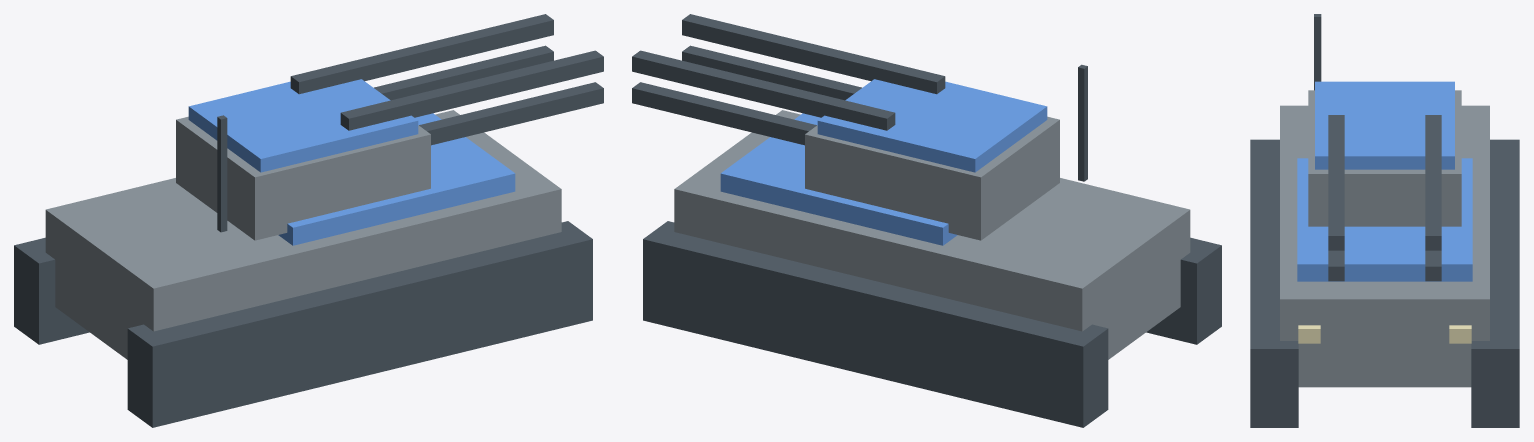
Rendered from luchtafweerwagen.glb.
The picture shows the model from 3 angles, left to right: view 1: azimuth 30°, elevation 25°; view 2: azimuth 150°, elevation 25°; view 3: azimuth 270°, elevation 25°; orthographic projection. The views are drawn at different scales.
Visible parts, largest first — view 1: hull_dark_LOD0, hull_steel_LOD0, barrel_dark_LOD0, turret_steel_LOD0, turret_team_LOD0, hull_team_LOD0; view 2: hull_dark_LOD0, hull_steel_LOD0, barrel_dark_LOD0, turret_steel_LOD0, turret_team_LOD0, hull_team_LOD0; view 3: hull_steel_LOD0, hull_dark_LOD0, turret_team_LOD0, hull_team_LOD0, turret_steel_LOD0, barrel_dark_LOD0, hull_lamp_LOD0.
Part boxes in pixels (x1,y1,x2,y2): hull_dark_LOD0: [14, 115, 592, 427]; hull_steel_LOD0: [45, 110, 561, 359]; barrel_dark_LOD0: [290, 14, 603, 145]; turret_steel_LOD0: [176, 116, 430, 240]; turret_team_LOD0: [188, 79, 418, 172]; hull_team_LOD0: [278, 113, 515, 245]; hull_dark_LOD0: [643, 64, 1221, 427]; hull_steel_LOD0: [674, 110, 1190, 359]; barrel_dark_LOD0: [632, 14, 945, 145]; turret_steel_LOD0: [805, 116, 1059, 240]; turret_team_LOD0: [817, 79, 1047, 172]; hull_team_LOD0: [720, 113, 957, 245]; hull_steel_LOD0: [1280, 105, 1489, 387]; hull_dark_LOD0: [1250, 14, 1519, 427]; turret_team_LOD0: [1315, 81, 1454, 169]; hull_team_LOD0: [1297, 158, 1472, 281]; turret_steel_LOD0: [1308, 90, 1461, 226]; barrel_dark_LOD0: [1328, 115, 1441, 281]; hull_lamp_LOD0: [1298, 325, 1471, 343].
Size of what is drawn, in the model's own units: 6.15 by 3.11 by 3.
